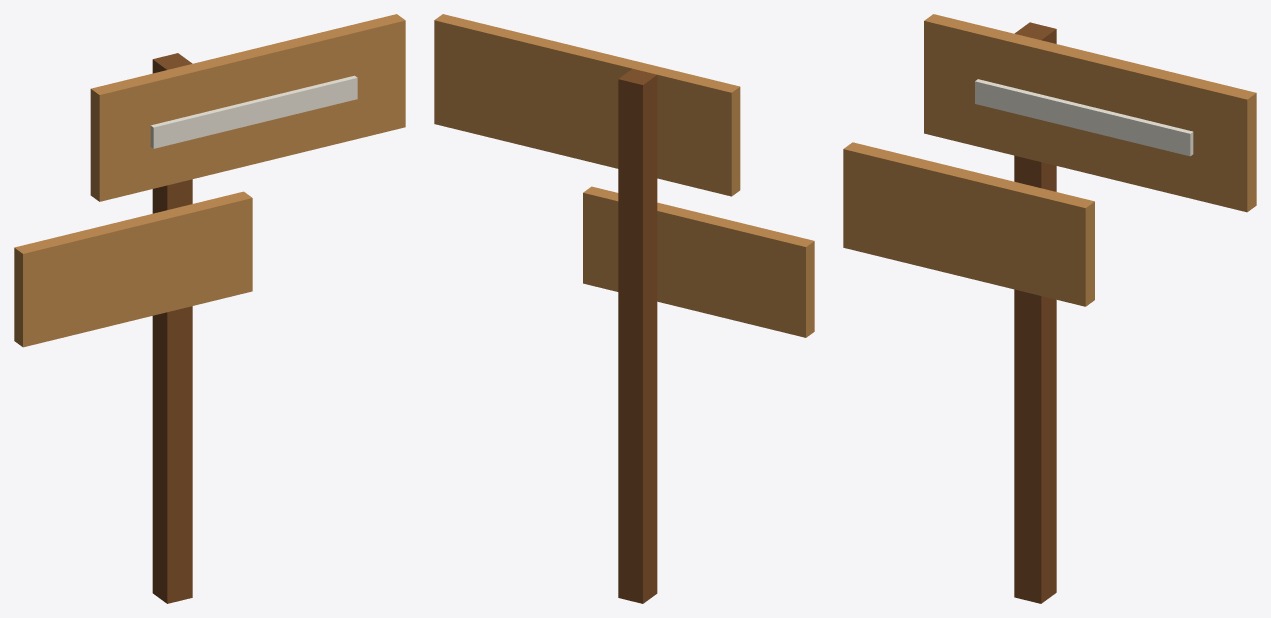
The model's file is town_town_sign.glb.
3 renders of one model, left to right at view 1: azimuth 30°, elevation 25°; view 2: azimuth 150°, elevation 25°; view 3: azimuth 330°, elevation 25°, orthographic. The views are drawn at different scales.
Visible parts, largest first — view 1: town_sign; view 2: town_sign; view 3: town_sign.
Boxes of the visible parts, left/top/right/bottom form: town_sign: left=14, top=14, right=405, bottom=603; town_sign: left=434, top=14, right=814, bottom=603; town_sign: left=843, top=14, right=1256, bottom=603.
Bounding box in the file's own units: 1.5 × 2 × 0.18.
